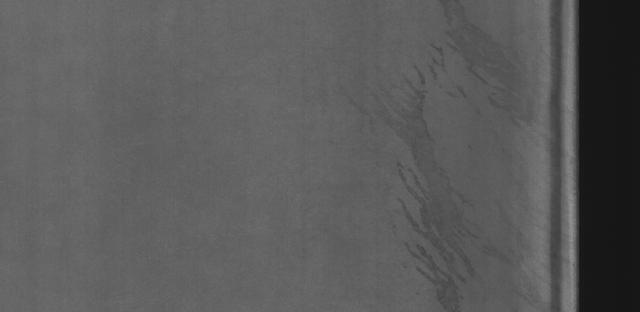water_spot: (371, 46, 482, 310), (446, 4, 550, 133)
